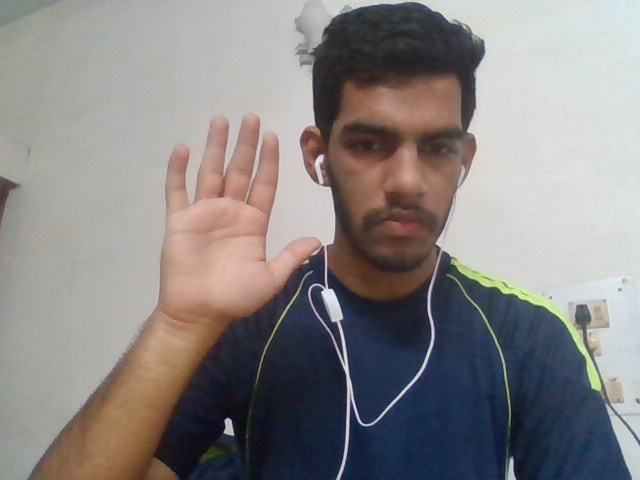hi: (135, 109, 322, 327)
